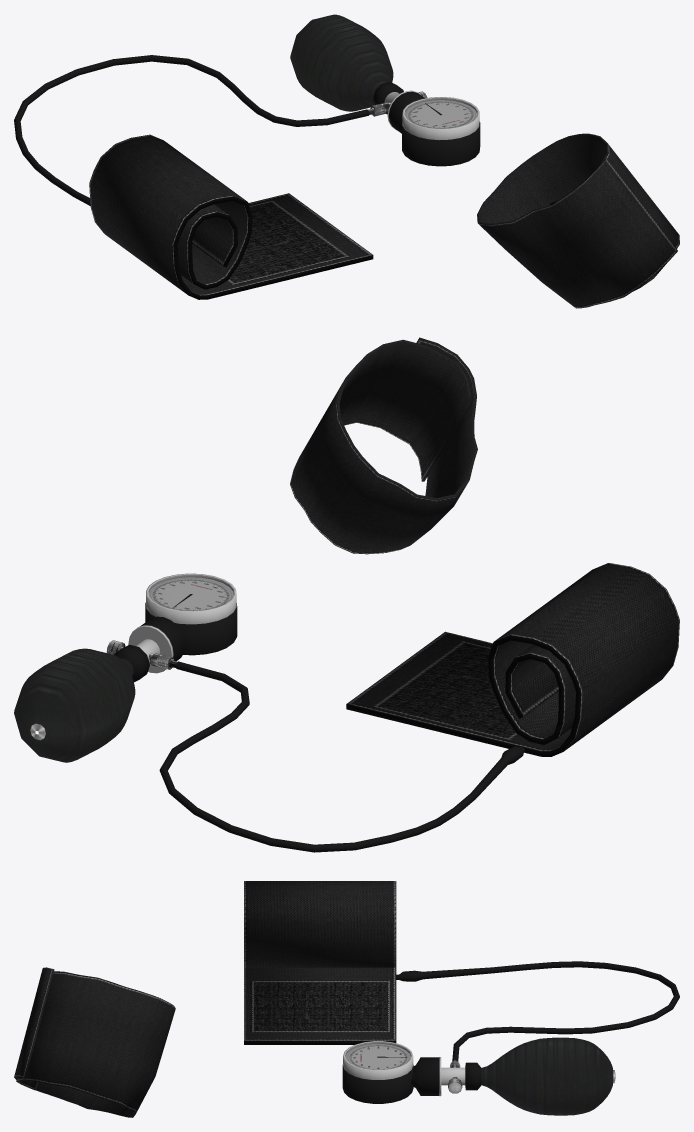
File: pneumaticSphygmomanometer.glb
3 views of the same model, one above another, from view 1: azimuth 30°, elevation 25°; view 2: azimuth 150°, elevation 25°; view 3: azimuth 270°, elevation 25° (orthographic). The views are drawn at different scales.
Parts seen in each view (by area): view 1: pneumaticSphygmomanometerCuff, pneumaticSphygmomanometerCuffPut, pneumaticSphygmomanometerMeterrubberBulb, pneumaticSphygmomanometerTube, pneumaticSphygmomanometerMeterCasePlastic, pneumaticSphygmomanometerMeterGlass, pneumaticSphygmomanometerMeterScale, pneumaticSphygmomanometerMeterCaseMetal; view 2: pneumaticSphygmomanometerCuff, pneumaticSphygmomanometerCuffPut, pneumaticSphygmomanometerMeterrubberBulb, pneumaticSphygmomanometerTube, pneumaticSphygmomanometerMeterCasePlastic, pneumaticSphygmomanometerMeterGlass, pneumaticSphygmomanometerMeterScale, pneumaticSphygmomanometerMeterCaseMetal, pneumaticSphygmomanometerMeterCaseOutletMetal; view 3: pneumaticSphygmomanometerCuff, pneumaticSphygmomanometerCuffPut, pneumaticSphygmomanometerMeterrubberBulb, pneumaticSphygmomanometerTube, pneumaticSphygmomanometerMeterCasePlastic, pneumaticSphygmomanometerMeterGlass, pneumaticSphygmomanometerMeterScale, pneumaticSphygmomanometerMeterCaseMetal, pneumaticSphygmomanometerMeterCaseOutletMetal.
Boxes of the visible parts, x1,y1,x2,y2 form: pneumaticSphygmomanometerCuff: [89, 134, 373, 299]; pneumaticSphygmomanometerCuffPut: [477, 133, 679, 308]; pneumaticSphygmomanometerMeterrubberBulb: [290, 14, 393, 111]; pneumaticSphygmomanometerTube: [14, 55, 369, 205]; pneumaticSphygmomanometerMeterCasePlastic: [373, 82, 480, 166]; pneumaticSphygmomanometerMeterGlass: [405, 98, 477, 128]; pneumaticSphygmomanometerMeterScale: [405, 100, 477, 128]; pneumaticSphygmomanometerMeterCaseMetal: [402, 97, 479, 140]; pneumaticSphygmomanometerCuff: [346, 563, 679, 756]; pneumaticSphygmomanometerCuffPut: [290, 337, 477, 554]; pneumaticSphygmomanometerMeterrubberBulb: [14, 648, 135, 762]; pneumaticSphygmomanometerTube: [159, 661, 525, 852]; pneumaticSphygmomanometerMeterCasePlastic: [114, 602, 237, 682]; pneumaticSphygmomanometerMeterGlass: [148, 575, 233, 610]; pneumaticSphygmomanometerMeterScale: [148, 577, 233, 610]; pneumaticSphygmomanometerMeterCaseMetal: [146, 573, 236, 624]; pneumaticSphygmomanometerMeterCaseOutletMetal: [128, 625, 173, 673]; pneumaticSphygmomanometerCuff: [244, 881, 396, 1044]; pneumaticSphygmomanometerCuffPut: [14, 967, 175, 1117]; pneumaticSphygmomanometerMeterrubberBulb: [481, 1037, 615, 1115]; pneumaticSphygmomanometerTube: [396, 961, 679, 1061]; pneumaticSphygmomanometerMeterCasePlastic: [342, 1057, 481, 1103]; pneumaticSphygmomanometerMeterGlass: [345, 1042, 410, 1069]; pneumaticSphygmomanometerMeterScale: [345, 1044, 410, 1069]; pneumaticSphygmomanometerMeterCaseMetal: [343, 1041, 413, 1079]; pneumaticSphygmomanometerMeterCaseOutletMetal: [439, 1057, 465, 1096].
Size of what is drawn, in the model's own units: 0.3831 by 0.1462 by 0.6025.
5 materials, 2 textured.
